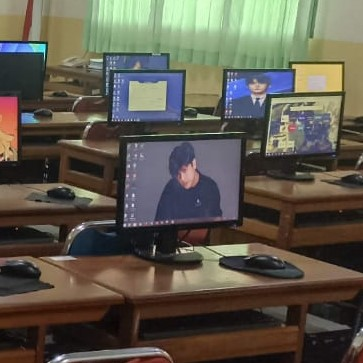monitor: (116, 132, 247, 239), (0, 254, 125, 314), (260, 91, 345, 162), (219, 68, 296, 136), (107, 69, 186, 126), (101, 52, 170, 98), (0, 41, 48, 102), (289, 61, 345, 93), (0, 92, 23, 168)
